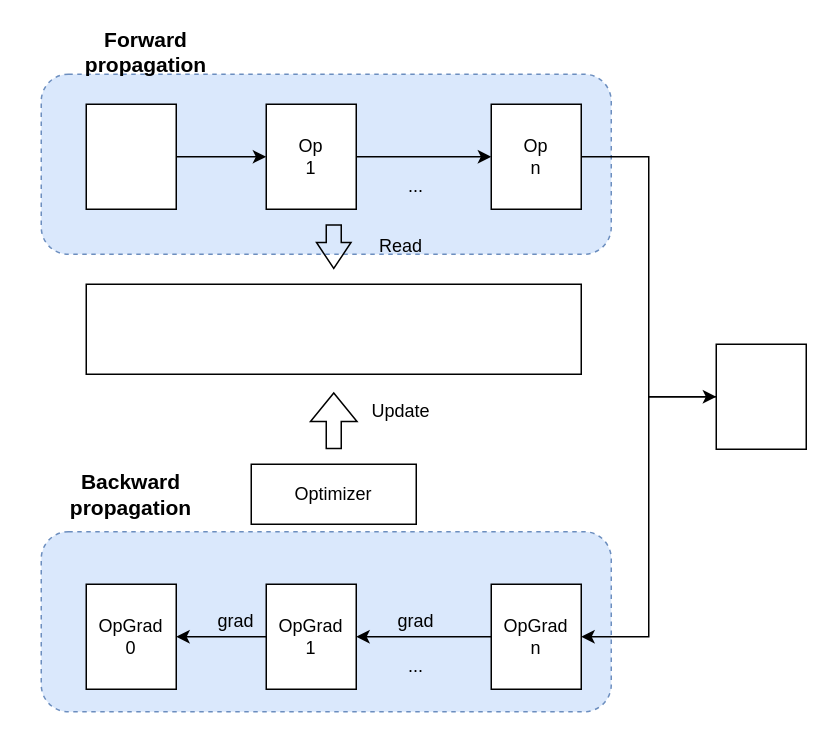
Image size: 833x738. Some labels were removed from this diagram. The centre of each missing label's shape, as x and y in pixels:
"Loss Op" goes at point (760, 396).
"Op 0" goes at point (130, 156).
"Weights" goes at point (333, 328).
